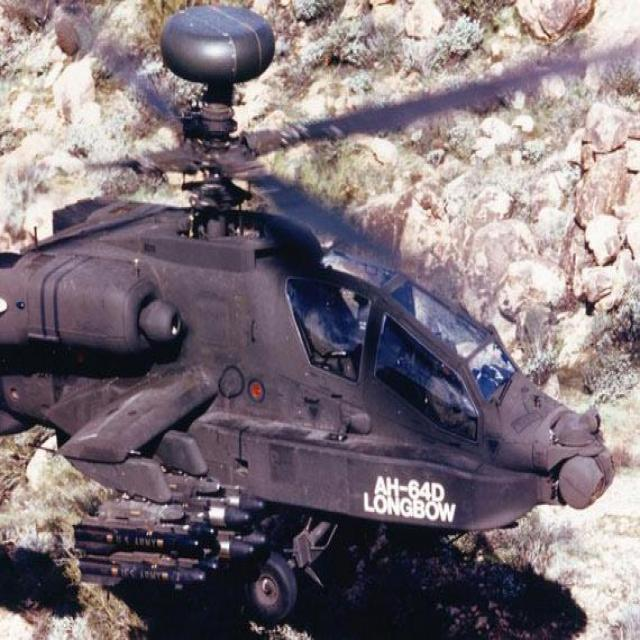MIL_HELO: (0, 0, 640, 621)
